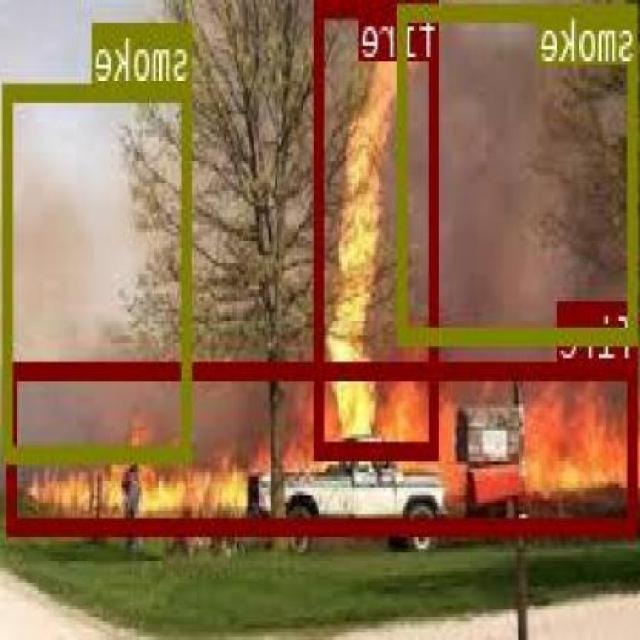Fire: (9, 362, 640, 530), (316, 0, 441, 454)
Smoke: (400, 1, 638, 341), (6, 82, 192, 458)
